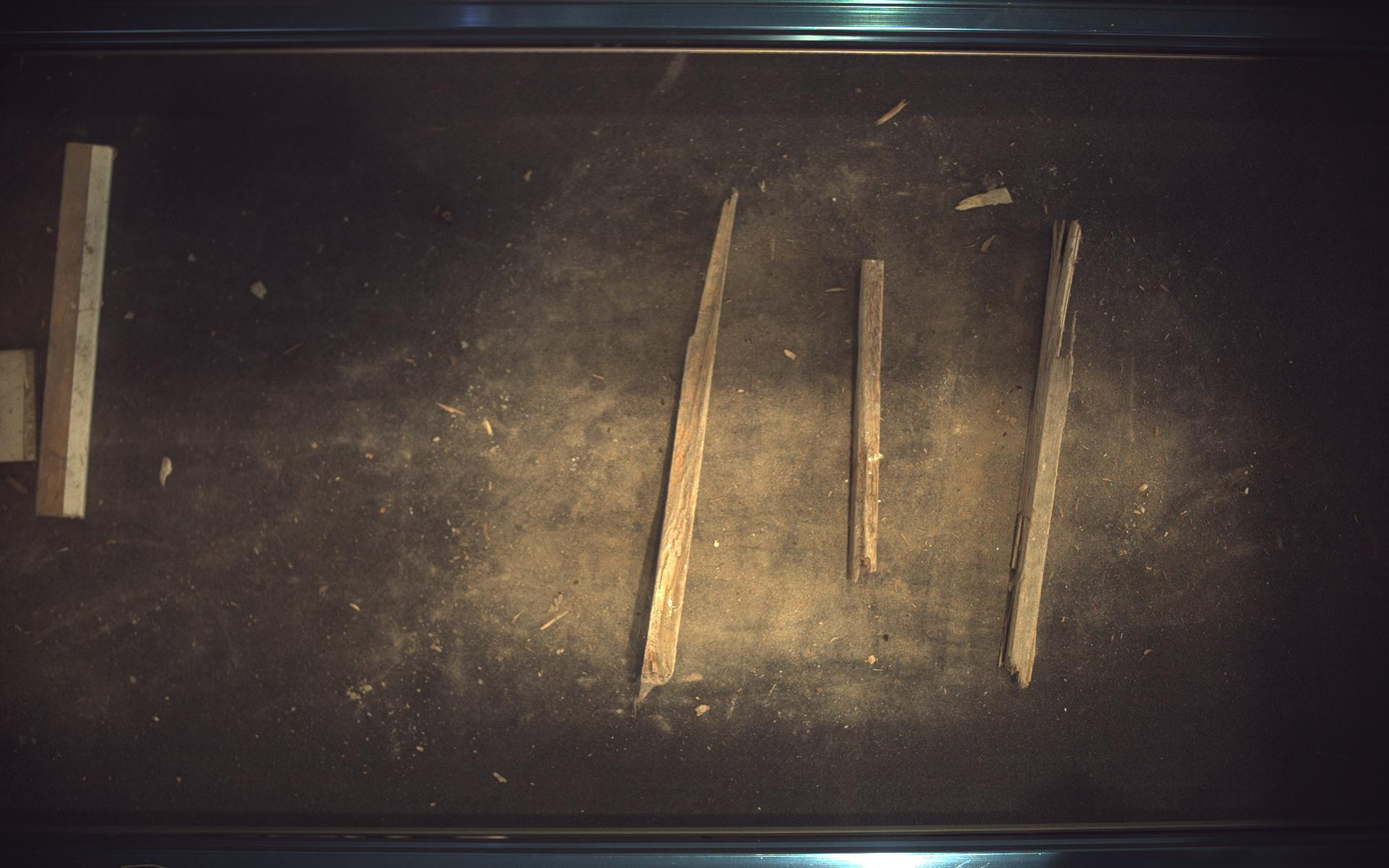wood: (636, 189, 740, 709), (1003, 219, 1084, 689), (850, 258, 886, 583)
